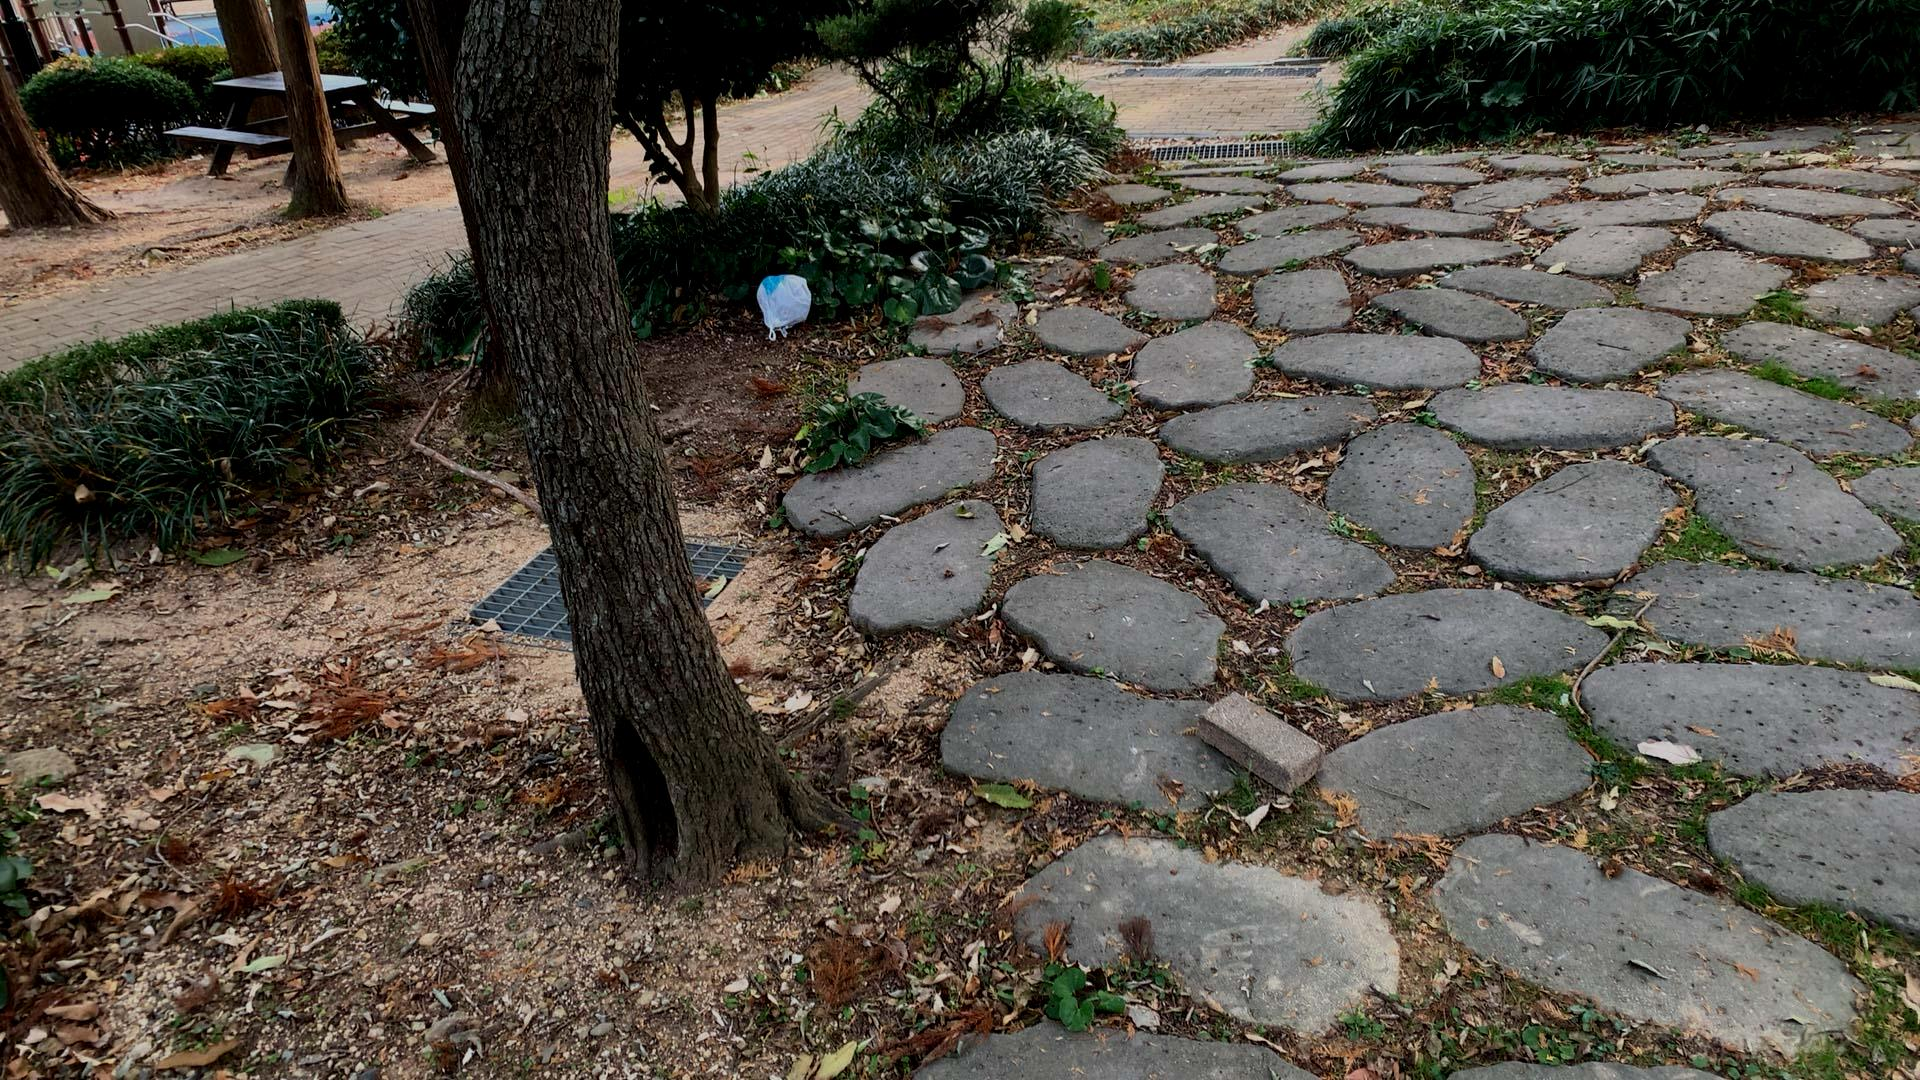white_bag: (752, 266, 814, 345)
